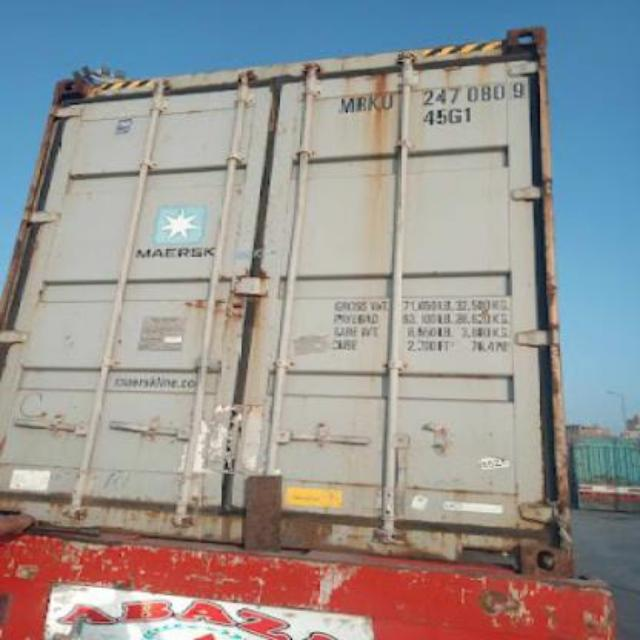0: (492, 75, 506, 107), (466, 84, 479, 105)
2: (418, 84, 434, 106)
4: (436, 84, 448, 106)
7: (446, 84, 459, 105)
8: (480, 80, 492, 108)
9: (510, 76, 528, 102)
K: (364, 87, 378, 117)
M: (332, 92, 353, 118)
R: (354, 89, 368, 121)
U: (378, 89, 396, 115)
